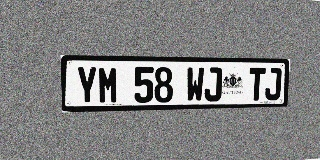5: (134, 67, 154, 103)
8: (154, 67, 173, 103)
J: (204, 67, 222, 102), (265, 68, 282, 100)
M: (98, 66, 119, 104)
T: (248, 68, 266, 101)
W: (186, 67, 204, 102)
Y: (76, 66, 98, 104)
